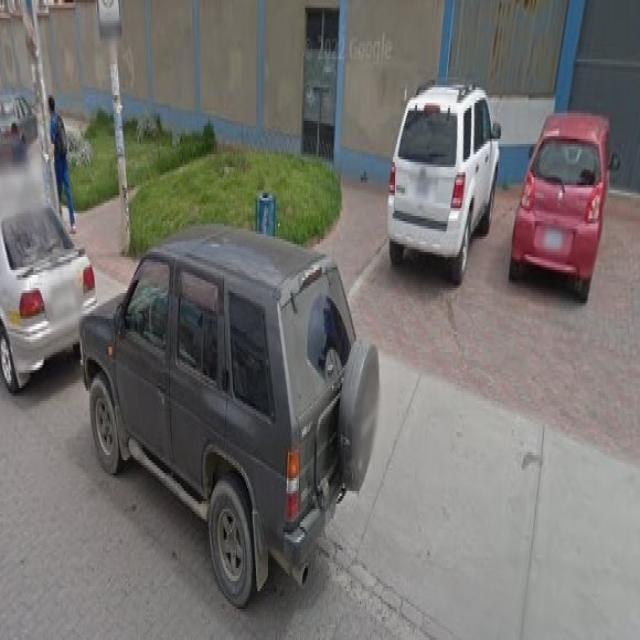truck: (80, 217, 385, 627), (390, 45, 500, 288), (517, 92, 607, 306), (1, 166, 89, 380)
